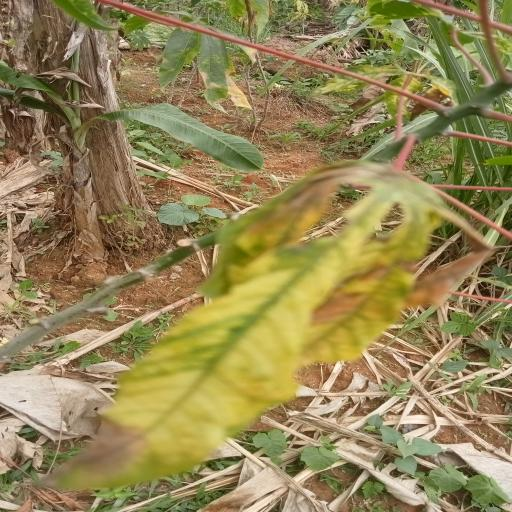Cassava_Bacterial_Disease: (42, 162, 490, 490)
